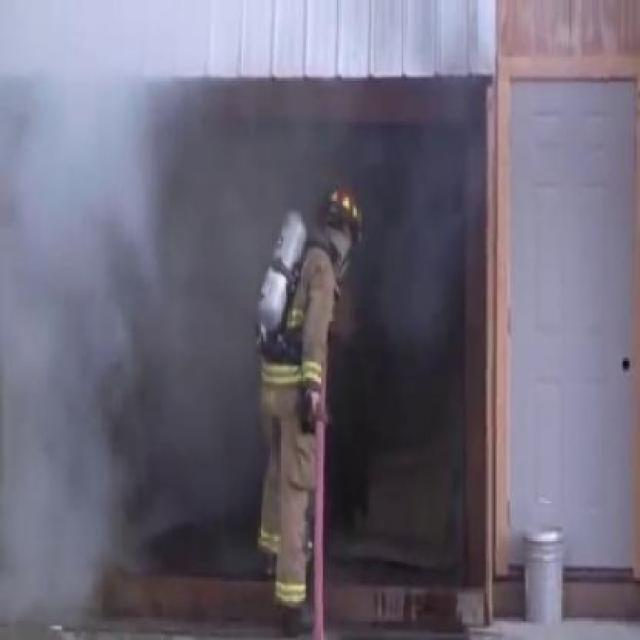smoke: (16, 48, 152, 624)
